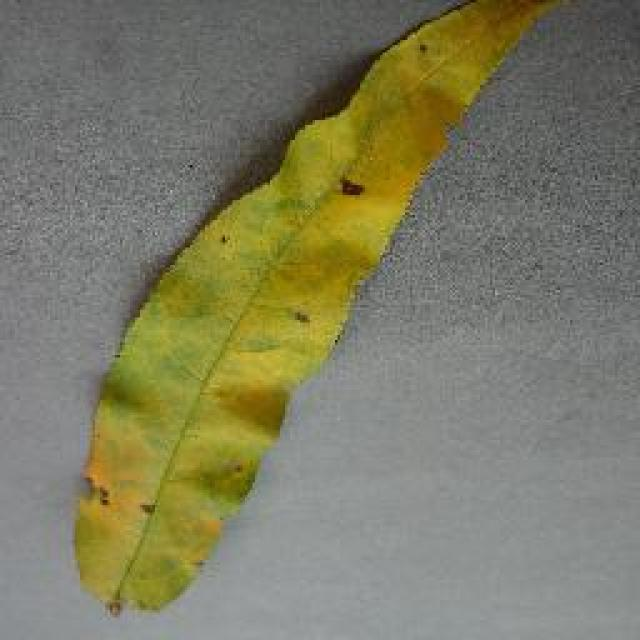Peach_Bacterial_Spot: (232, 116, 415, 366)
